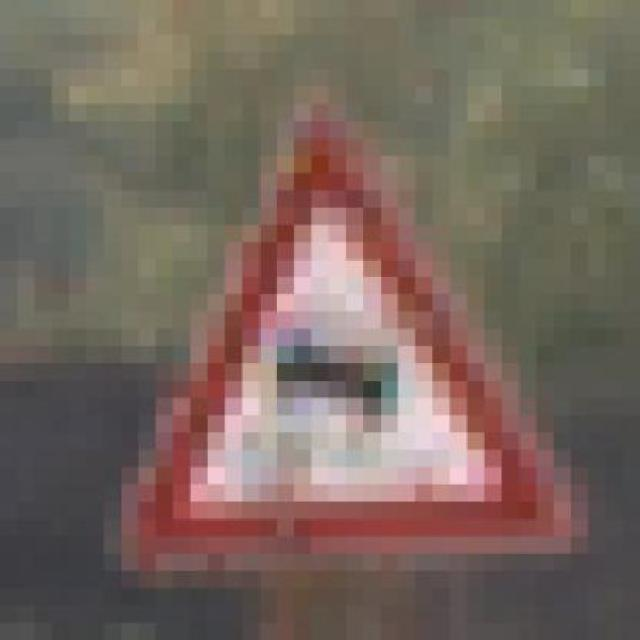Slippery Road Ahead: (86, 86, 606, 588)
